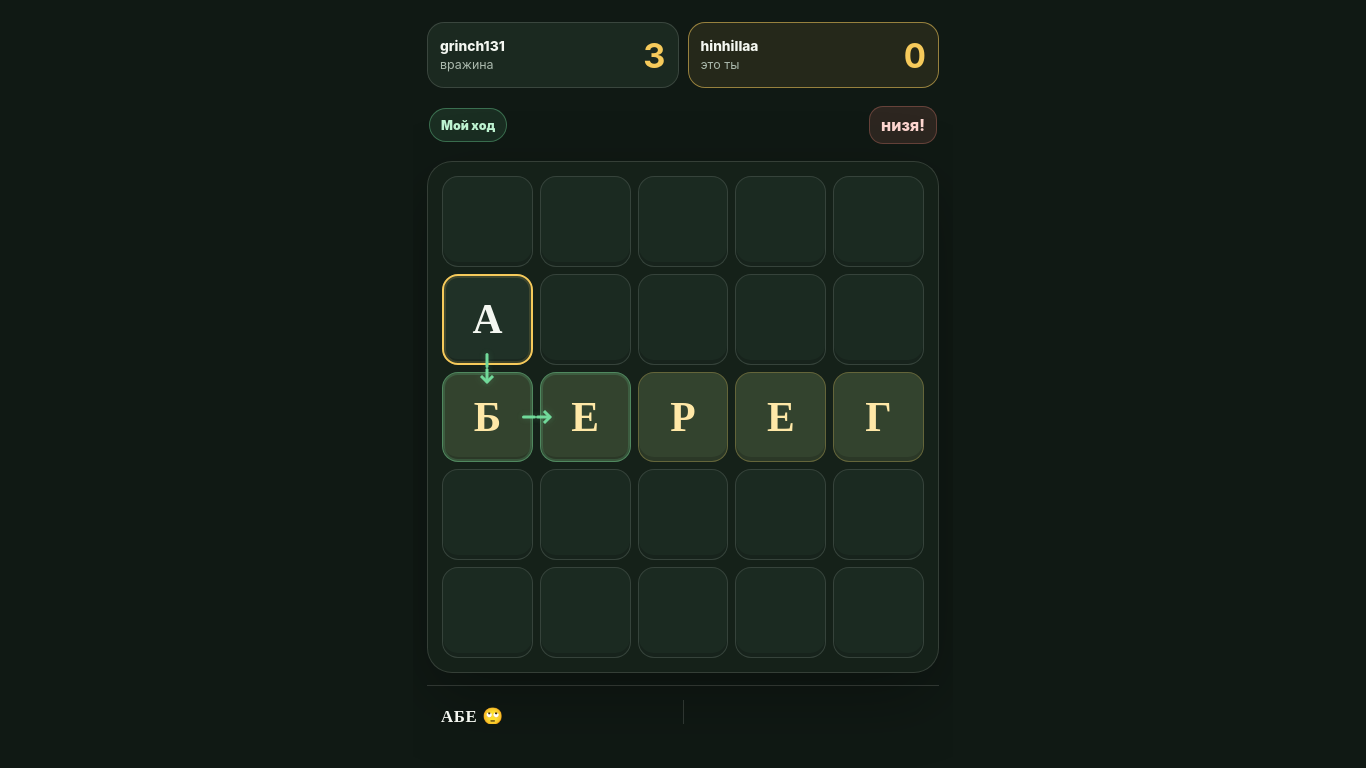
Test: GameScreen › opens a popup for a saved rating and removes it on confirmation
Expected: the element named "История ходов" reads "АБЕ 🙄", [427,685,939,724]
What coordinates should you click on to do the following:
click the button "АБЕ 🙄"
I would click on:
 (472, 716)
Its box is [441,706,504,727].
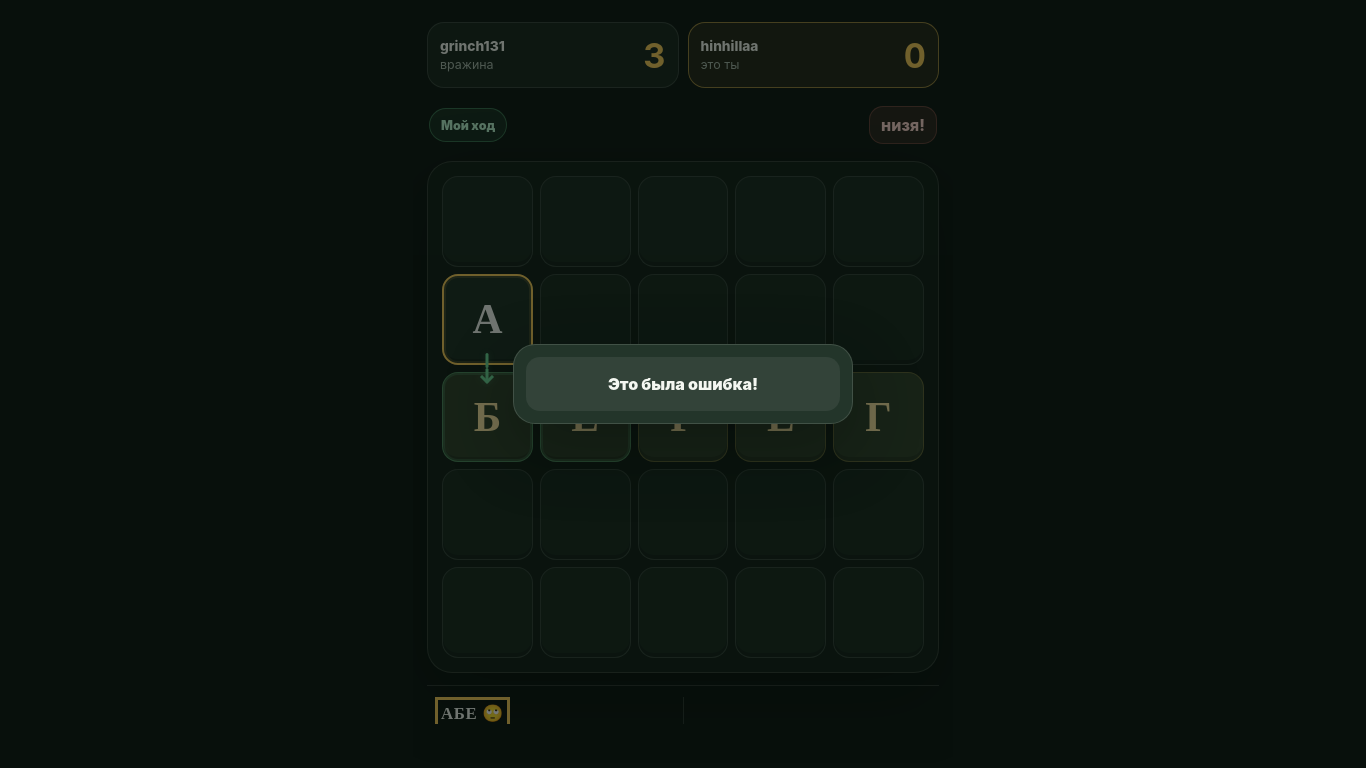
Now the dialog named "Отменить оценку слова АБЕ" is shown, box [513,344,853,424]
What coordinates should you click on to do the following:
click the button "Это была ошибка!"
I would click on:
 (683, 384)
Its box is [526,357,840,411].
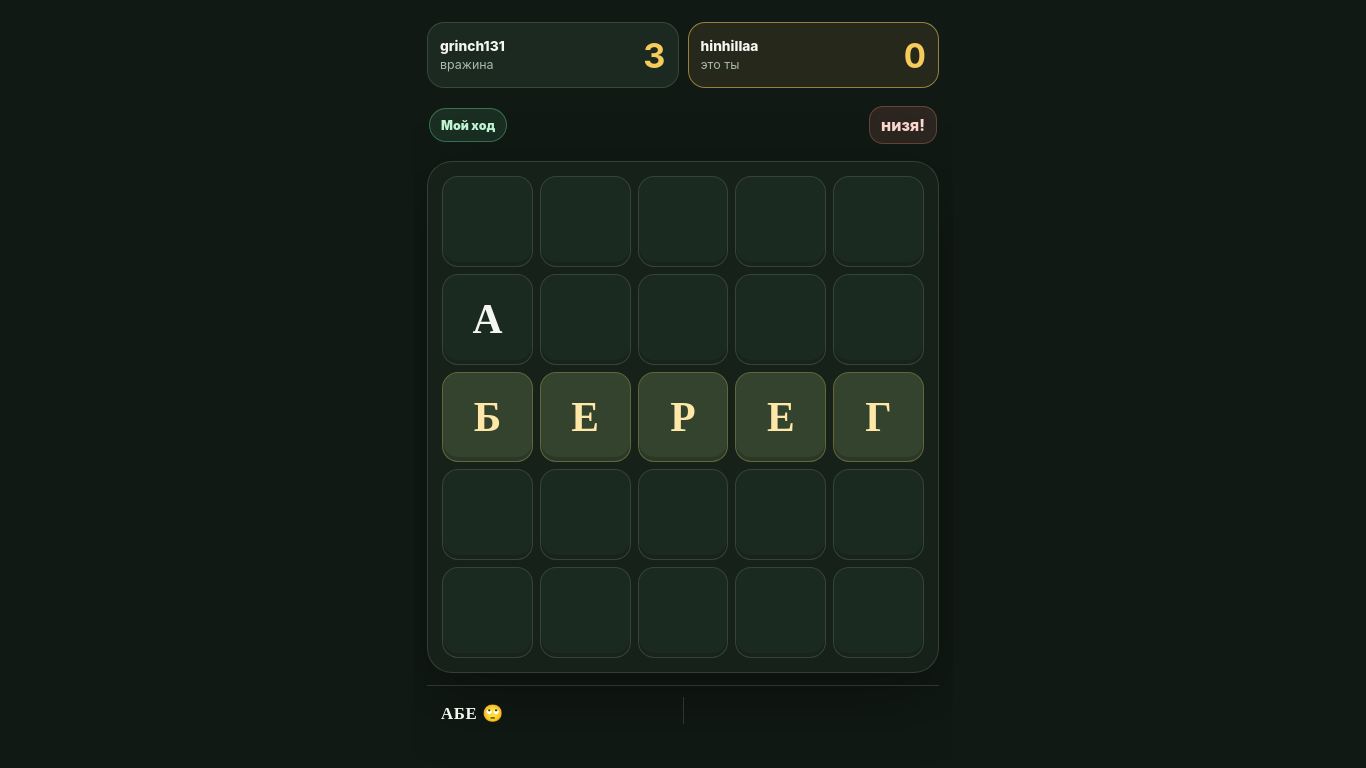
Now the dialog is gone
